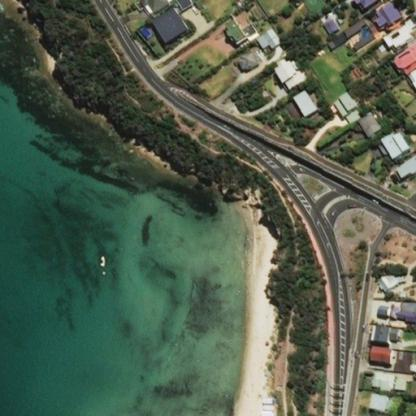ship: (91, 249, 113, 280)
